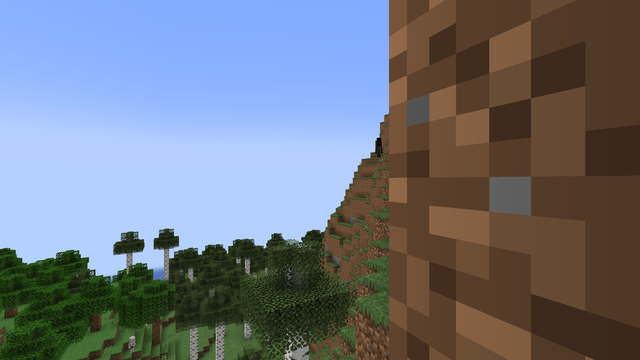endermens: (376, 136, 381, 156)
squelettes: (128, 335, 134, 354)
